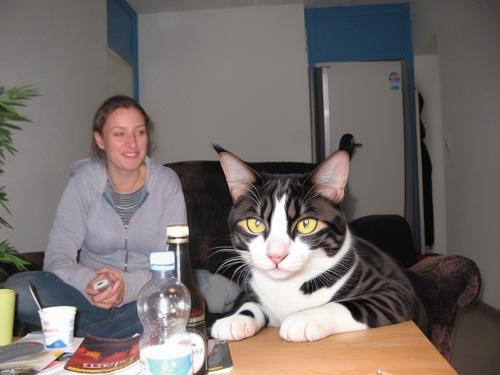bottle: (138, 252, 195, 375), (167, 224, 210, 375)
cat: (209, 67, 433, 341)
person: (3, 96, 189, 337)
person/hand: (85, 275, 119, 311), (97, 268, 120, 311)
person/head: (93, 97, 154, 171)
pottedplant: (1, 82, 43, 273)
sofa: (3, 156, 483, 368)
